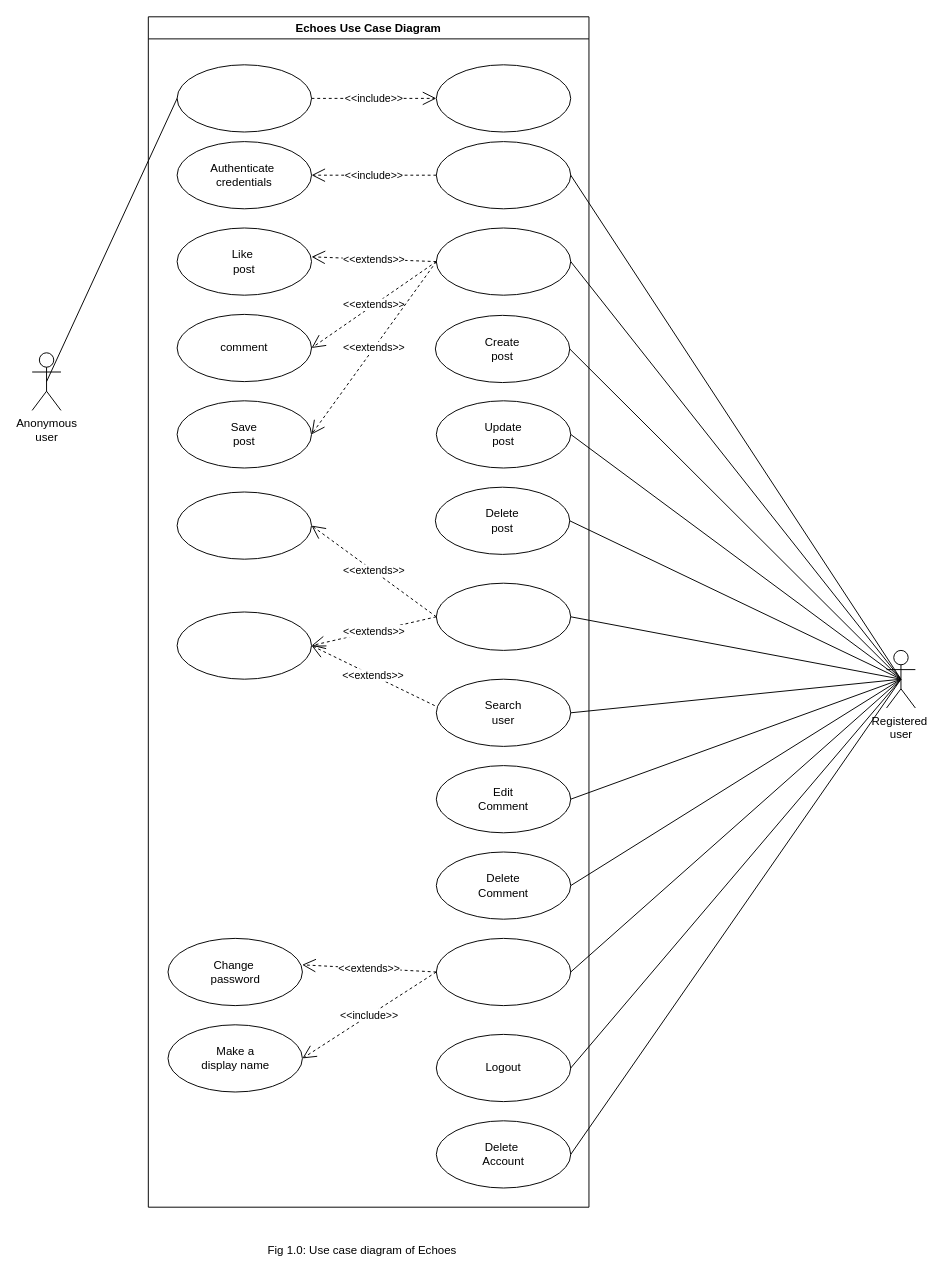
Image size: 947x1282. Some labels were removed from this diagram. The shapes that lost their labels are listed below. From the top down, each one's centre as x and y in pixels, then its label:
At pixel 244 98: "Register".
At pixel 503 98: "Verify unique username".
At pixel 503 175: "Login".
At pixel 503 261: "View post".
At pixel 244 525: "View followers and followings".
At pixel 503 616: "View profile".
At pixel 244 645: "Follow user".
At pixel 503 971: "Customize profile".
